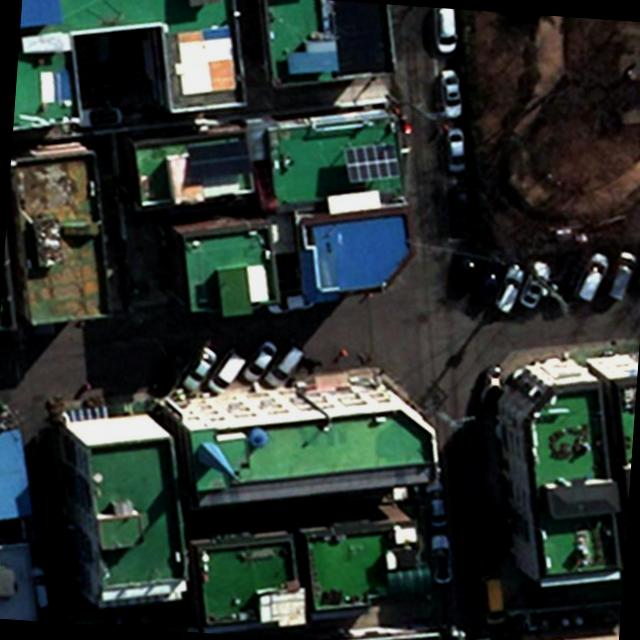solar: (338, 140, 406, 188)
